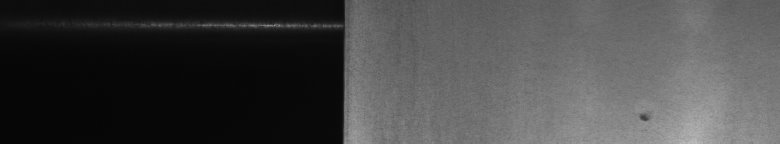fi: (633, 108, 653, 131)
